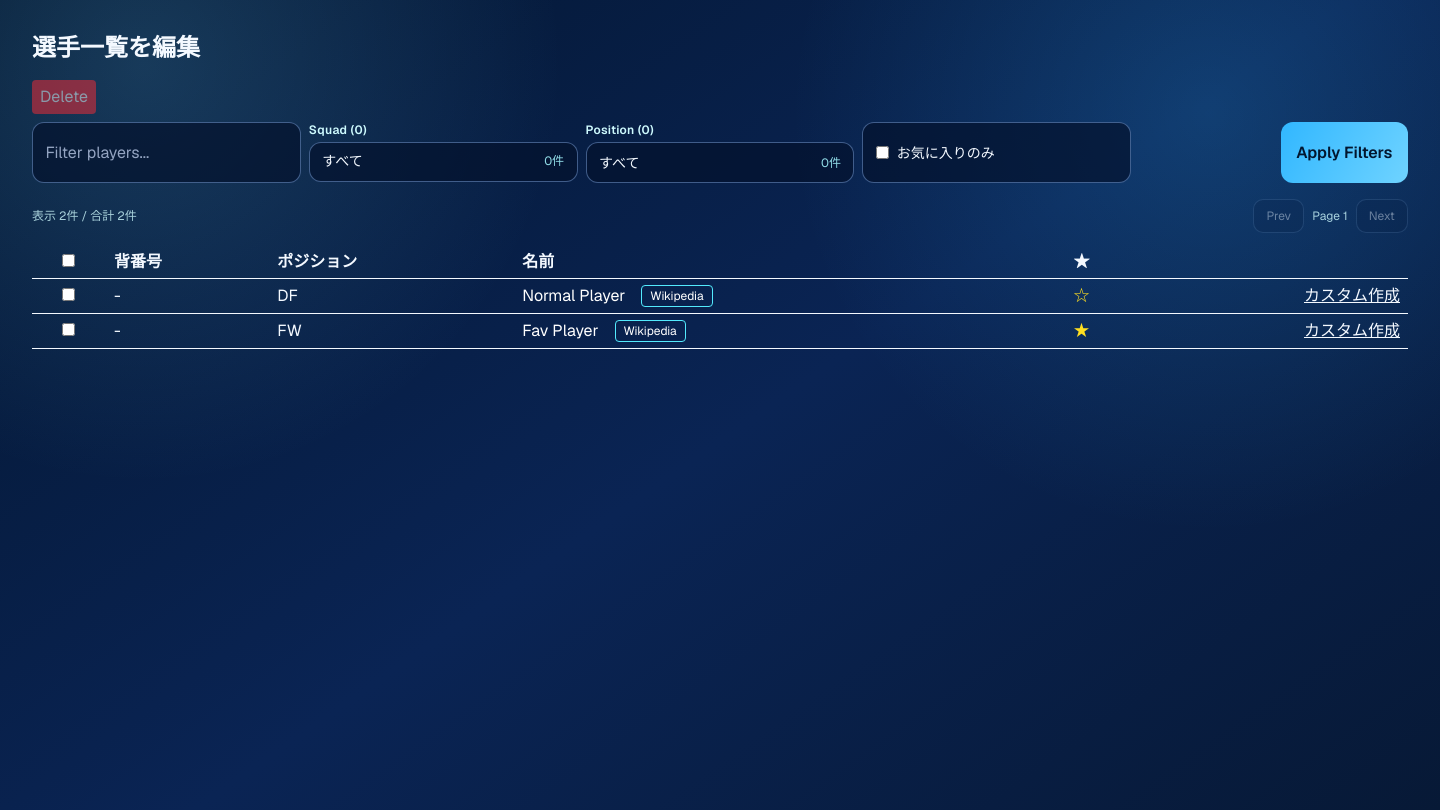
Scenario: Squad filter UI › applies favorite-only filter on players page
Expected: the text "Fav Player" is shown, [522, 318, 598, 344]
Expected: the text "Normal Player" is shown, [522, 283, 625, 309]
Click the checkbox labelled "お気に入りのみ": (882, 152) [876, 146, 889, 159]
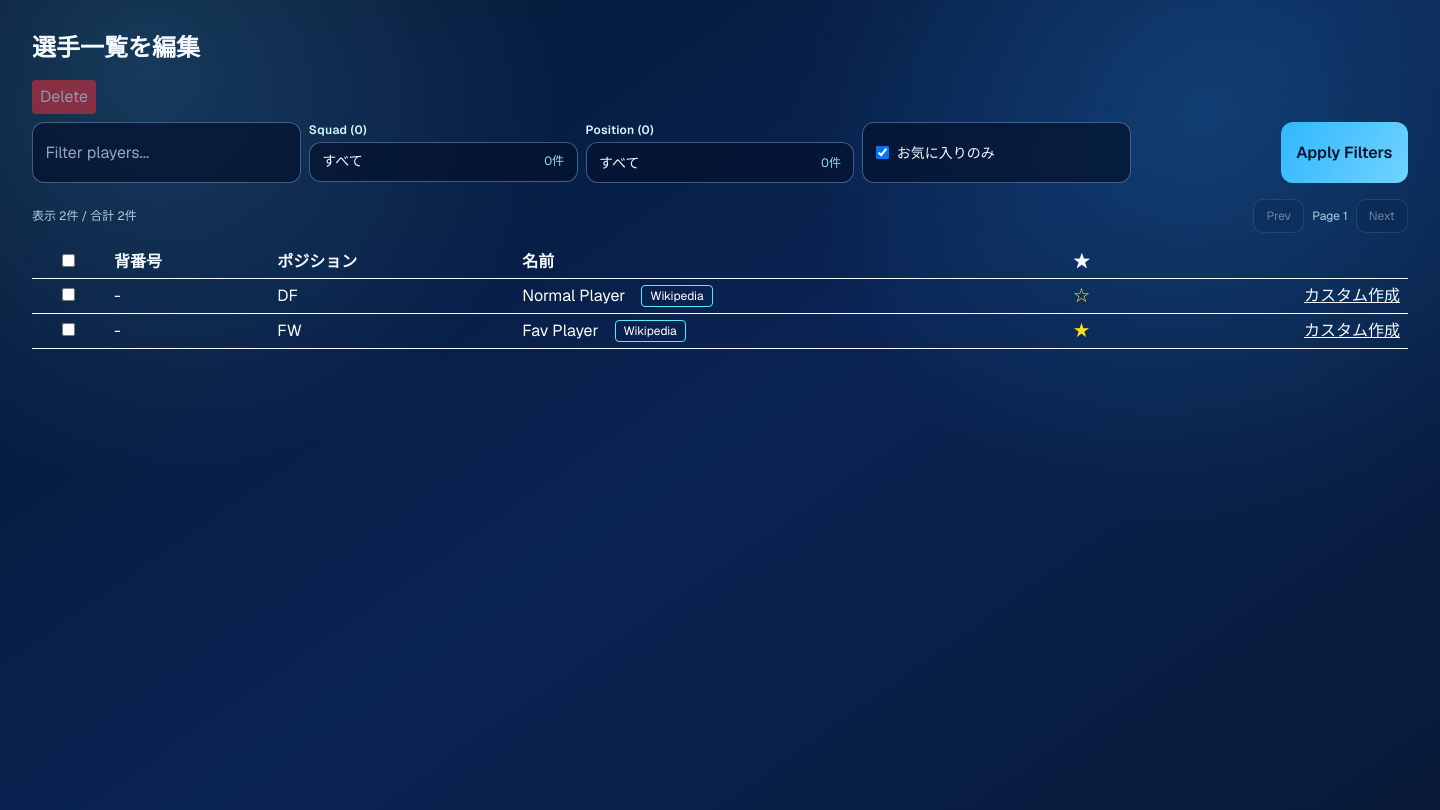
Click the button "Apply Filters": (1344, 152) [1281, 122, 1408, 183]
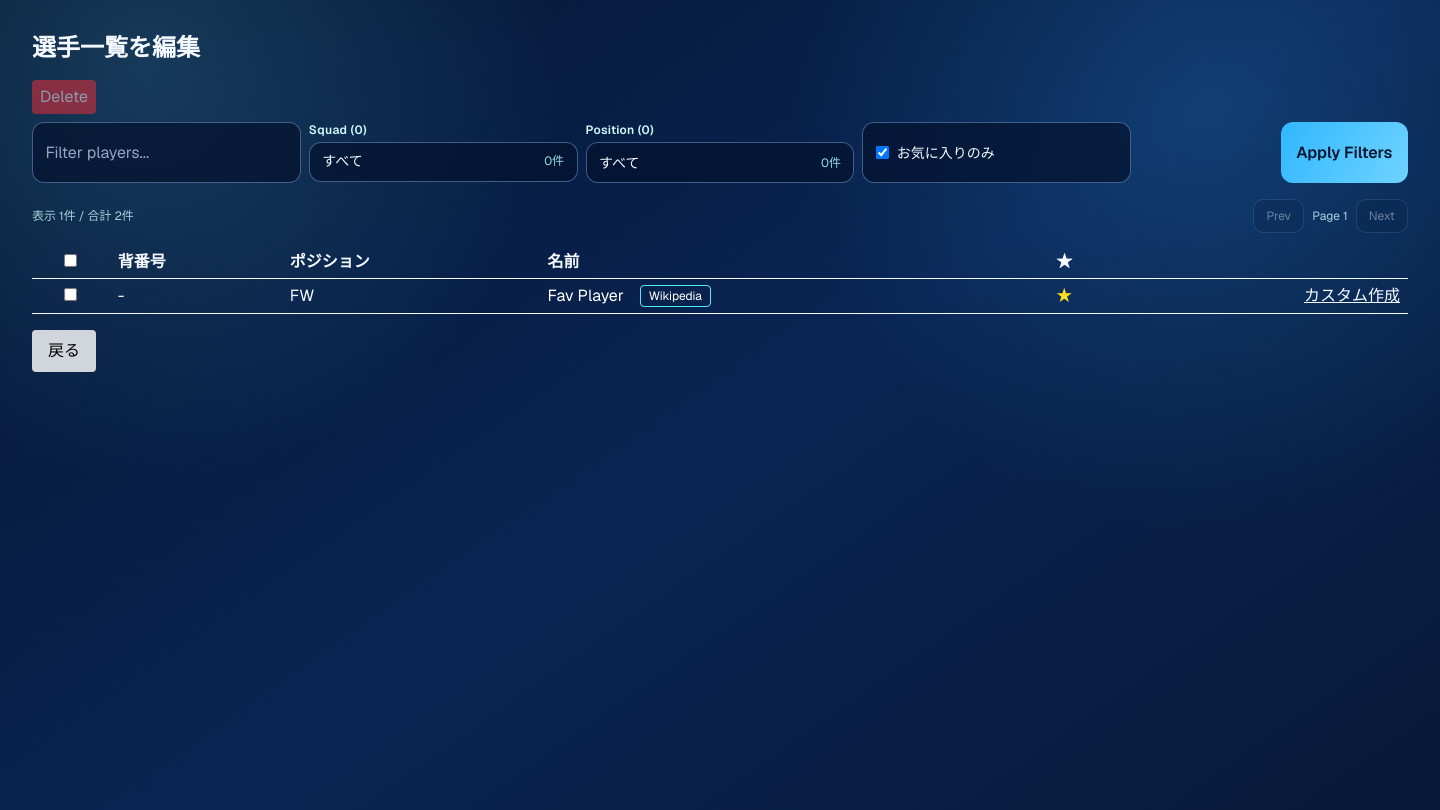
Expected: the text "Fav Player" is shown, [547, 283, 624, 309]
Now the text "Normal Player" is gone
